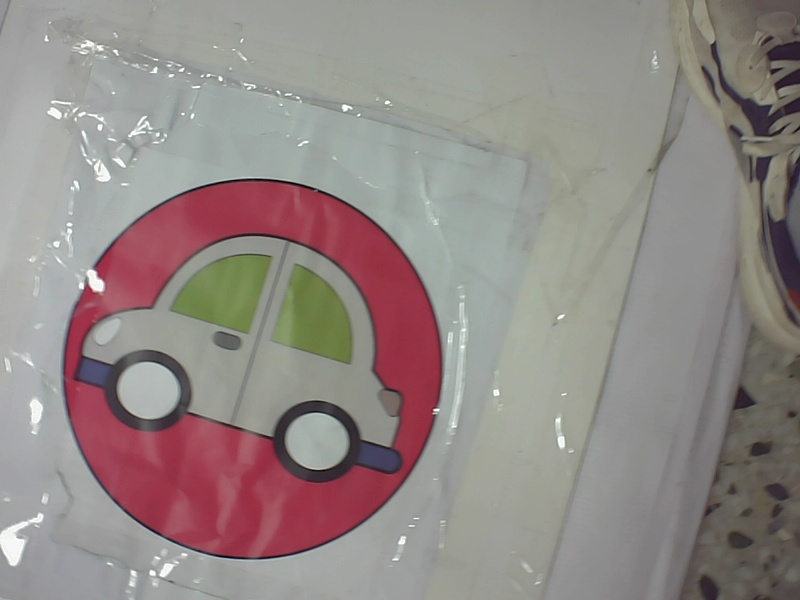areaC: (58, 168, 460, 561)
